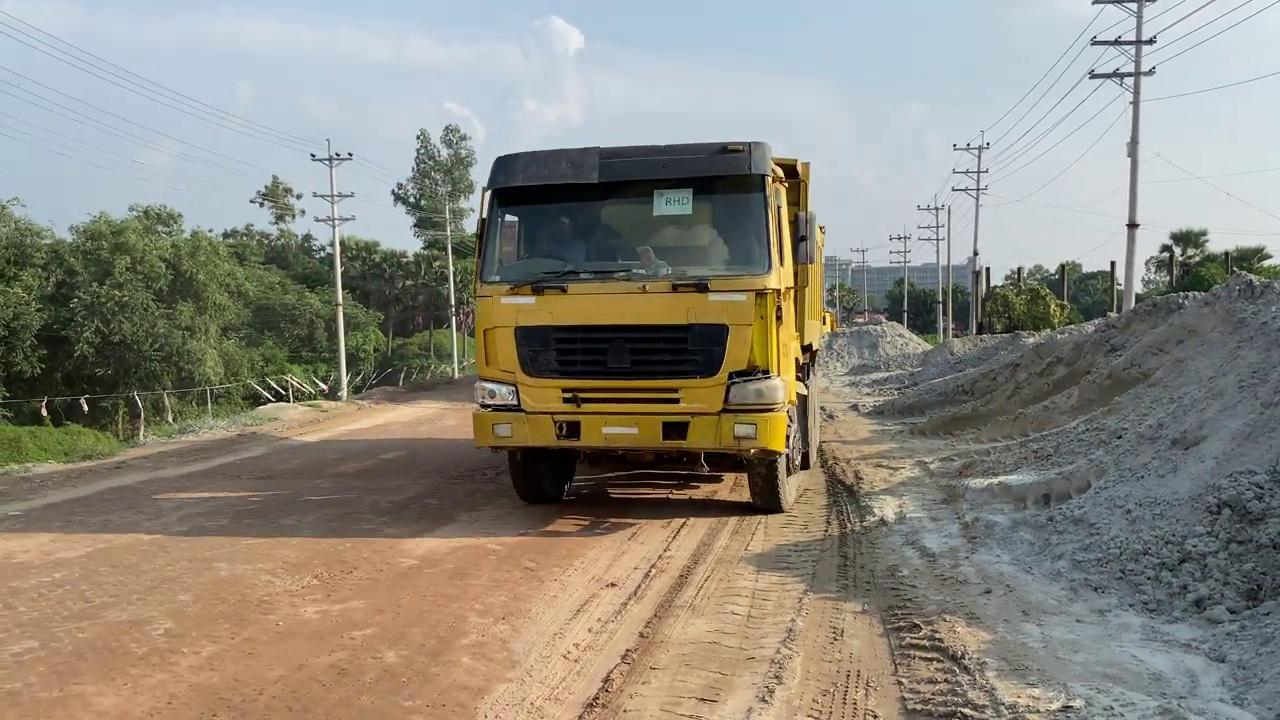Garbage: (856, 292, 1280, 720)
Pole: (1087, 0, 1157, 313), (309, 138, 355, 400), (951, 137, 989, 334), (443, 197, 459, 379)
Traffic-sign: (390, 121, 478, 377)
Tree: (470, 140, 835, 513)
